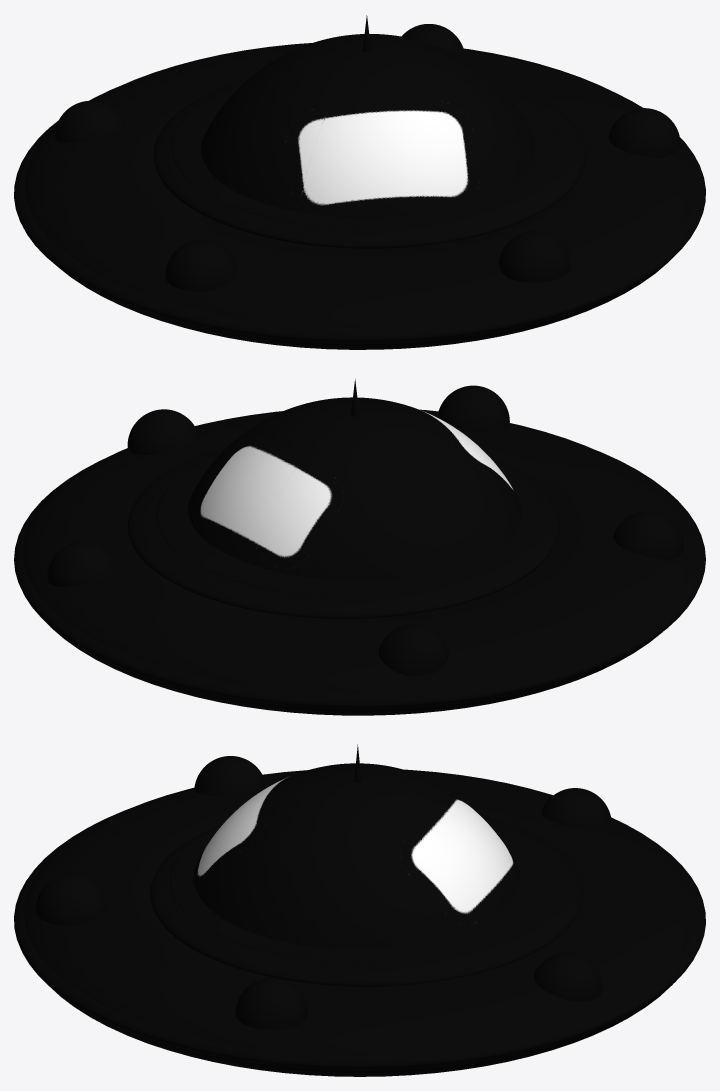
File: spaceship2.glb
3 renders of one model, top to bottom at view 1: azimuth 30°, elevation 25°; view 2: azimuth 150°, elevation 25°; view 3: azimuth 270°, elevation 25°, orthographic.
Visible parts, largest first — view 1: mesh_id29, mesh_id27, mesh_id37, mesh_id33, mesh_id51, mesh_id65, mesh_id59, mesh_id71, mesh_id53, mesh_id77; view 2: mesh_id29, mesh_id27, mesh_id33, mesh_id37, mesh_id51, mesh_id53, mesh_id65, mesh_id71, mesh_id59, mesh_id77; view 3: mesh_id29, mesh_id27, mesh_id33, mesh_id37, mesh_id51, mesh_id71, mesh_id65, mesh_id77, mesh_id59, mesh_id53.
Boxes of the visible parts, bbox=[...] form: mesh_id29: bbox=[25, 43, 696, 349]; mesh_id27: bbox=[201, 34, 534, 217]; mesh_id37: bbox=[14, 88, 705, 343]; mesh_id33: bbox=[153, 77, 585, 248]; mesh_id51: bbox=[172, 84, 559, 228]; mesh_id65: bbox=[498, 230, 571, 282]; mesh_id59: bbox=[165, 240, 236, 291]; mesh_id71: bbox=[608, 108, 680, 158]; mesh_id53: bbox=[54, 100, 124, 142]; mesh_id77: bbox=[401, 24, 464, 55]; mesh_id29: bbox=[23, 409, 694, 715]; mesh_id27: bbox=[188, 397, 521, 580]; mesh_id33: bbox=[127, 447, 559, 618]; mesh_id37: bbox=[14, 451, 705, 709]; mesh_id51: bbox=[156, 455, 543, 597]; mesh_id53: bbox=[378, 624, 448, 675]; mesh_id65: bbox=[437, 385, 509, 431]; mesh_id71: bbox=[127, 409, 199, 455]; mesh_id59: bbox=[613, 511, 683, 559]; mesh_id77: bbox=[47, 541, 116, 587]; mesh_id29: bbox=[24, 769, 696, 1076]; mesh_id27: bbox=[193, 763, 520, 949]; mesh_id33: bbox=[150, 814, 582, 986]; mesh_id37: bbox=[14, 810, 705, 1069]; mesh_id51: bbox=[170, 816, 557, 962]; mesh_id71: bbox=[235, 978, 307, 1029]; mesh_id65: bbox=[35, 874, 107, 925]; mesh_id77: bbox=[534, 952, 603, 1001]; mesh_id59: bbox=[194, 756, 265, 796]; mesh_id53: bbox=[541, 788, 611, 827].
Bounding box in the file's own units: 0.614 × 0.2098 × 0.614.
Materials: 11 (10 with a texture image).
